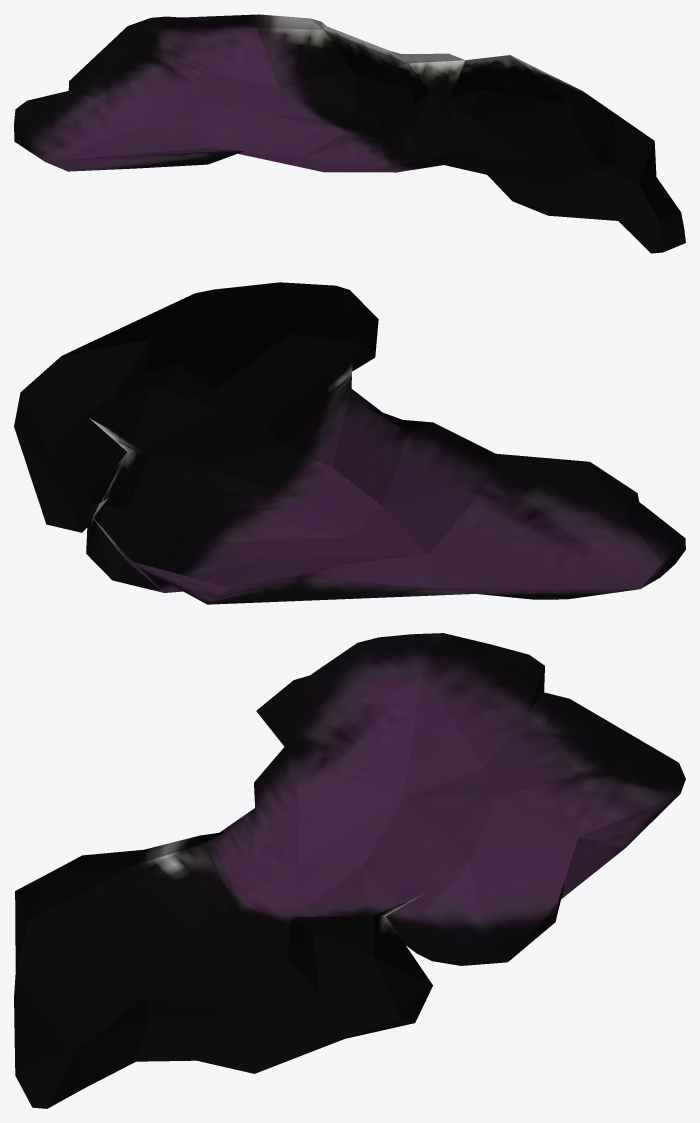
3 views of the same model, one above another, from view 1: azimuth 30°, elevation 25°; view 2: azimuth 150°, elevation 25°; view 3: azimuth 270°, elevation 25° (orthographic). The views are drawn at different scales.
Size of the model in its own units: 1.17 by 0.2548 by 0.9779.
1 material, 1 textured.
